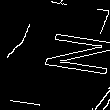N_W: (8, 30, 102, 80)
